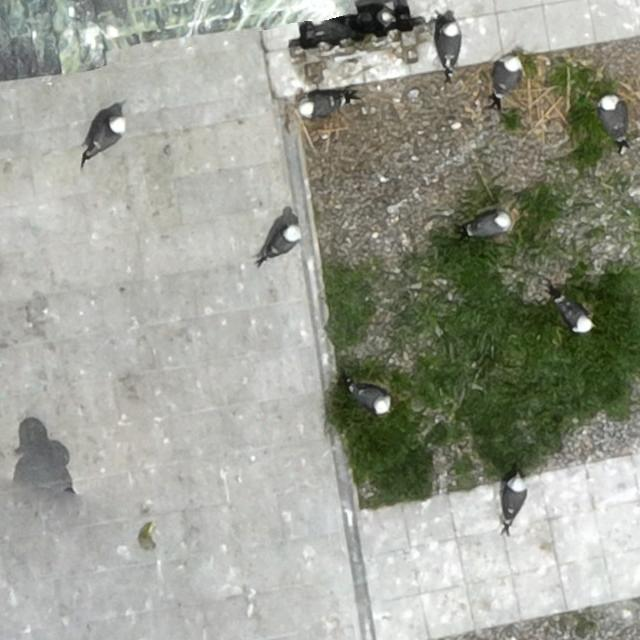umineko: (86, 116, 126, 164), (560, 301, 592, 330), (269, 224, 296, 256), (355, 388, 389, 413), (440, 23, 460, 65), (497, 58, 521, 92), (471, 214, 508, 236), (300, 95, 338, 115), (505, 481, 525, 516), (602, 102, 622, 136)
